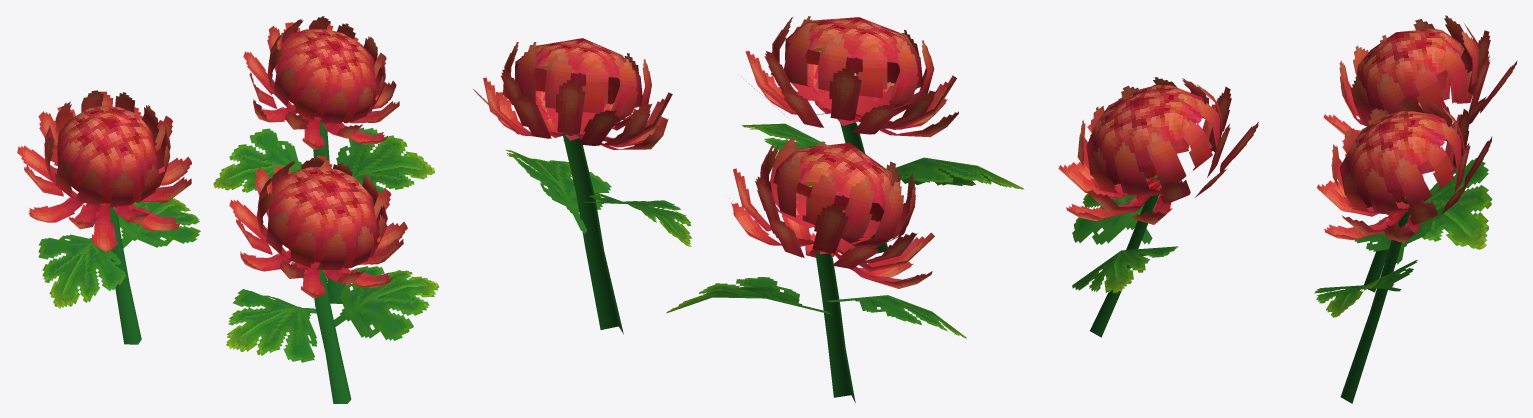
File: red-mums.glb
3 renders of one model, left to right at view 1: azimuth 30°, elevation 25°; view 2: azimuth 150°, elevation 25°; view 3: azimuth 270°, elevation 25°, orthographic. The views are drawn at different scales.
Bounding box in the file's own units: 9.99 × 6.47 × 9.28.
Materials: 2 (2 with a texture image).
